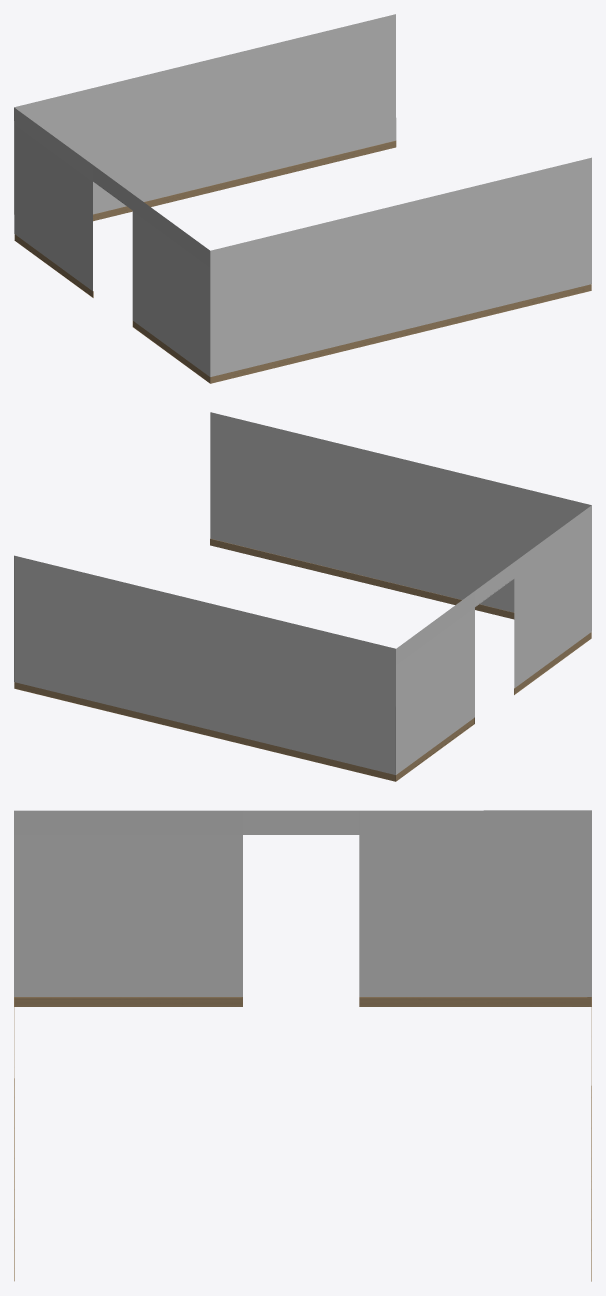
The model's file is Walls.fbx.
The picture shows the model from 3 angles, top to bottom: view 1: azimuth 30°, elevation 25°; view 2: azimuth 150°, elevation 25°; view 3: azimuth 270°, elevation 25°; orthographic projection. The views are drawn at different scales.
Visible parts, largest first — view 1: 3x3.006; view 2: 3x3.006; view 3: 3x3.006.
Boxes of the visible parts, <box> form: 3x3.006: <box>14,14,591,383</box>; 3x3.006: <box>14,412,591,781</box>; 3x3.006: <box>14,810,591,1281</box>.
Bounding box in the file's own units: 8.01 × 9.01 × 3.
1 material, 1 textured.
